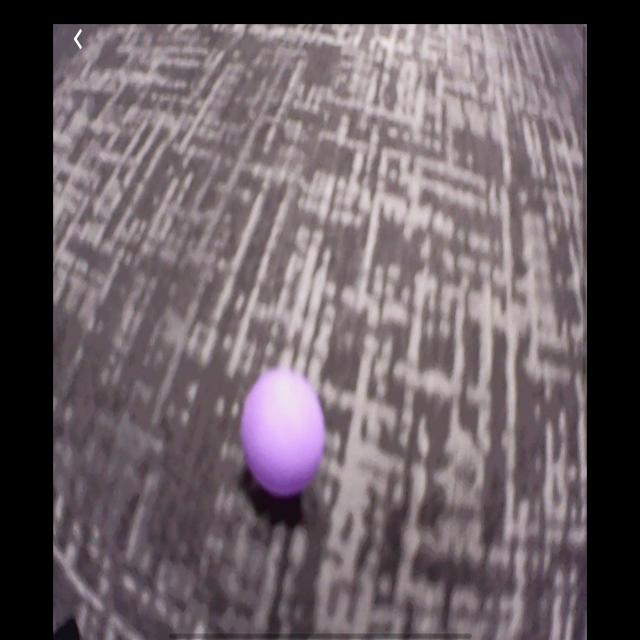ball: (240, 367, 327, 500)
